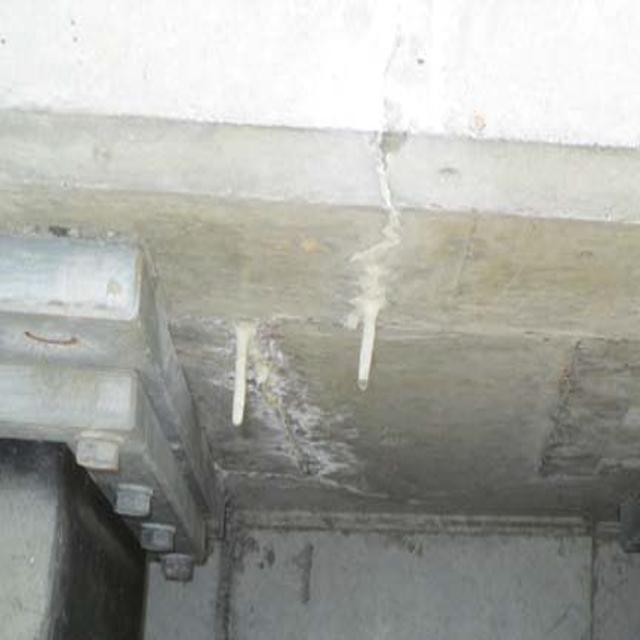freelime: (228, 339, 326, 504), (340, 227, 401, 390)
